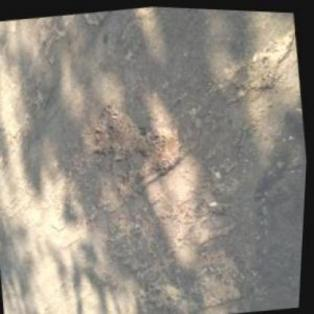Hueco: (241, 21, 301, 94), (87, 97, 144, 165), (138, 119, 188, 175)
